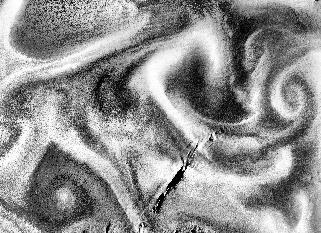CE: (34, 165, 94, 224), (272, 72, 313, 120)
